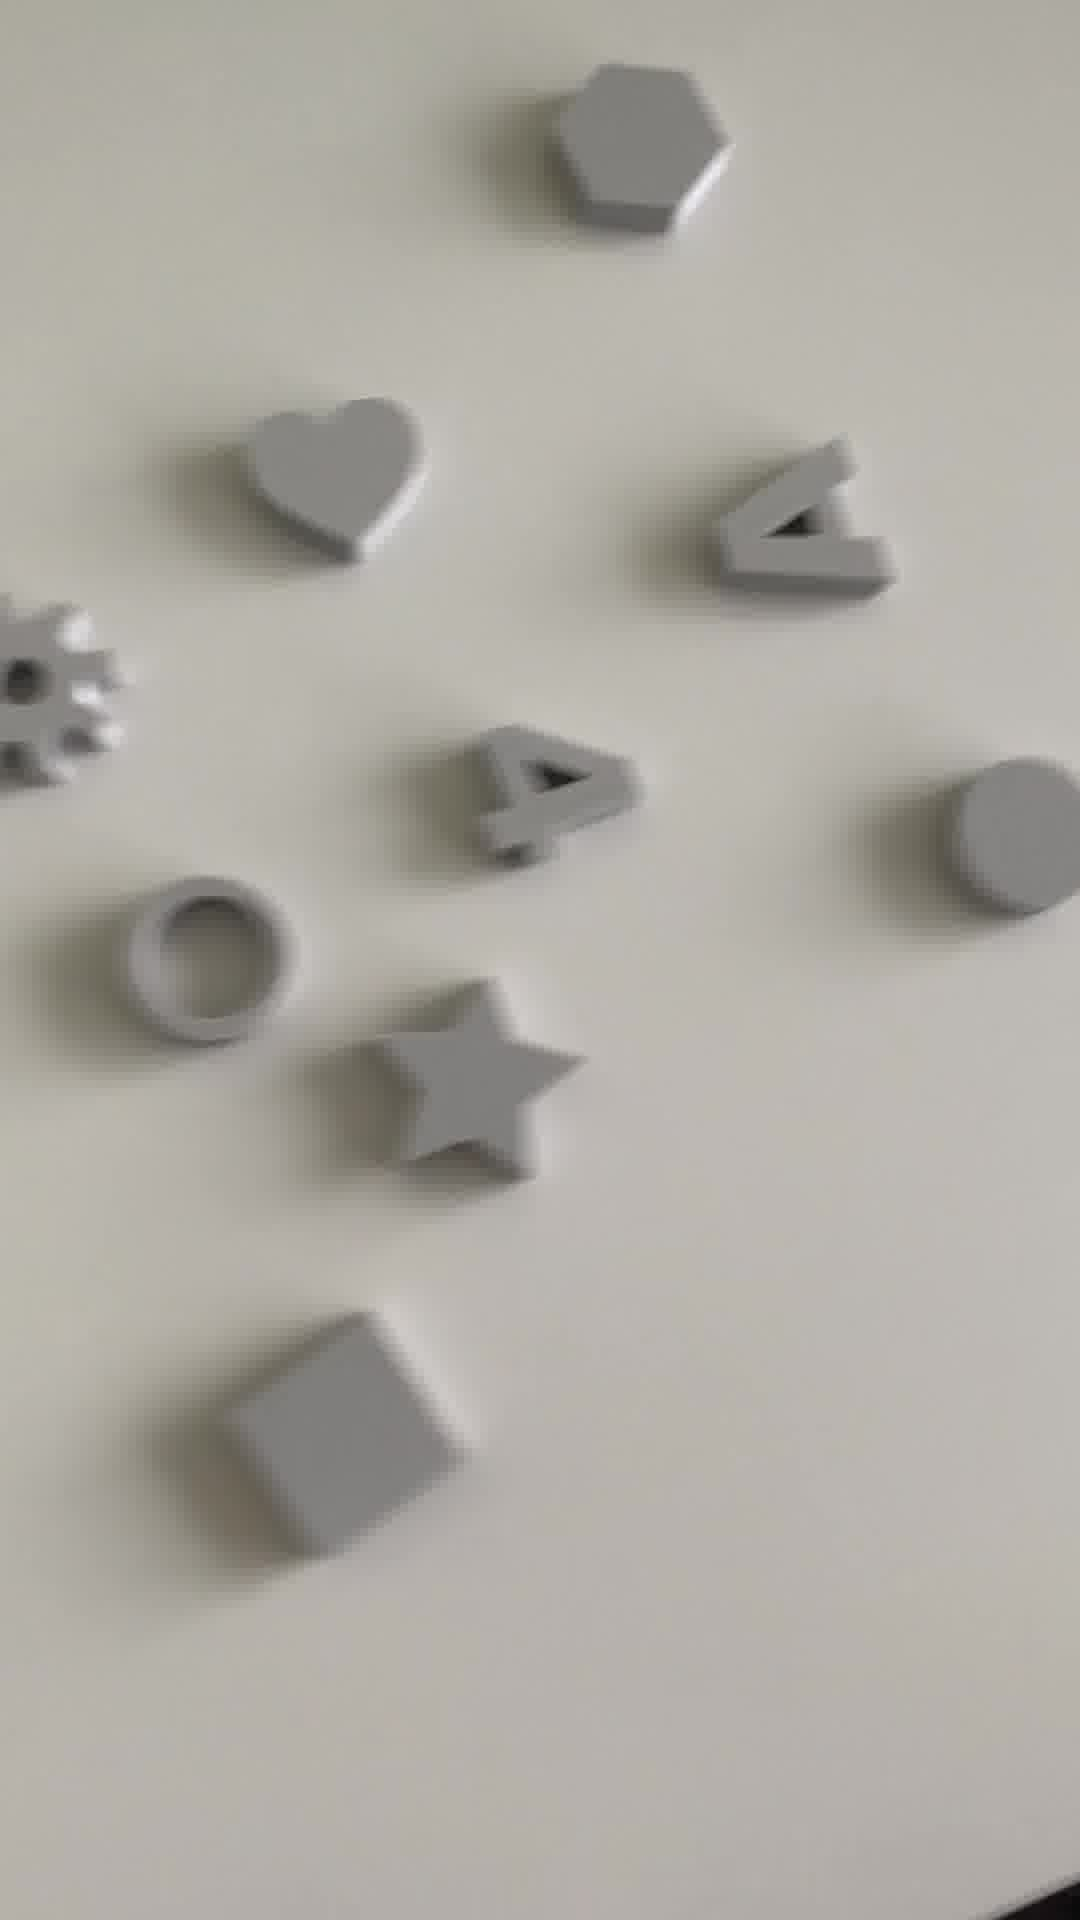Gray A-letter: (712, 418, 909, 611)
Gray circle: (938, 746, 1080, 932)
Gray four: (462, 724, 651, 866)
Gray gear: (1, 595, 133, 800)
Gray hexagon: (235, 392, 435, 567), (559, 51, 738, 243)
Gray ring: (113, 866, 306, 1075)
Gray square: (204, 1309, 479, 1555)
Gray star: (353, 975, 589, 1201)
